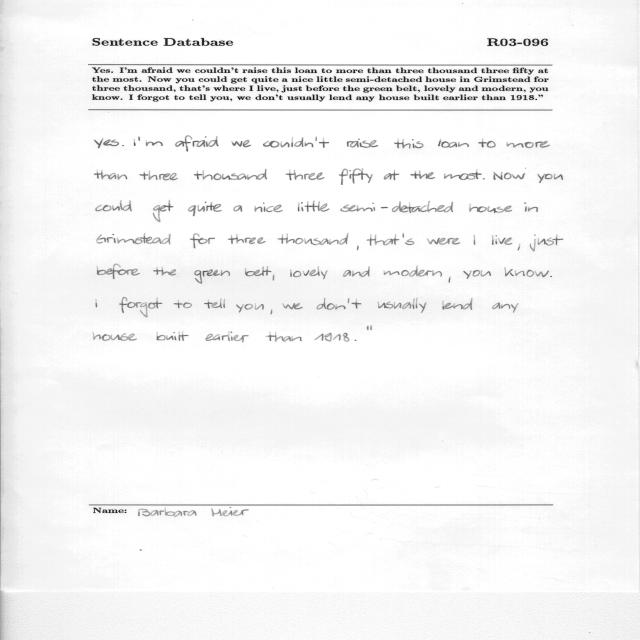word: (340, 201, 453, 213), (119, 298, 162, 318), (97, 234, 171, 245), (194, 169, 267, 180), (277, 234, 349, 245), (377, 298, 427, 313), (263, 137, 329, 148), (175, 136, 219, 152), (97, 264, 140, 279), (384, 266, 442, 277), (339, 168, 373, 185), (530, 235, 563, 252), (194, 269, 230, 284), (317, 298, 362, 310), (290, 266, 328, 279), (206, 331, 249, 342), (188, 202, 221, 216), (505, 267, 549, 277), (153, 201, 173, 222), (366, 234, 399, 246), (286, 170, 325, 180), (228, 234, 266, 244), (315, 333, 357, 342), (190, 234, 215, 249), (265, 332, 302, 342), (96, 202, 132, 212), (443, 298, 473, 310), (298, 201, 330, 212), (469, 205, 512, 213), (94, 333, 137, 341), (140, 171, 178, 180), (95, 170, 128, 180), (157, 331, 189, 341), (506, 141, 550, 148), (444, 172, 482, 180), (394, 139, 424, 149), (343, 267, 370, 278), (492, 302, 518, 313), (255, 203, 283, 213), (347, 139, 378, 148), (438, 139, 469, 148), (245, 266, 272, 276), (494, 172, 526, 180), (463, 270, 491, 279), (236, 304, 264, 313), (95, 139, 120, 149), (537, 174, 563, 183), (427, 238, 460, 245), (138, 137, 163, 146), (410, 170, 435, 179), (204, 299, 225, 309), (492, 235, 512, 245), (153, 268, 176, 276), (384, 170, 399, 180), (478, 140, 496, 148), (524, 202, 538, 212), (232, 140, 251, 147), (403, 234, 415, 245), (282, 303, 303, 309), (174, 302, 192, 308), (234, 206, 243, 212), (474, 235, 476, 245), (518, 244, 521, 250), (449, 276, 451, 283), (273, 275, 275, 281), (134, 141, 136, 146), (271, 310, 273, 315), (357, 246, 359, 250), (367, 327, 369, 330), (370, 327, 372, 330), (96, 303, 97, 308), (483, 178, 485, 180), (122, 145, 124, 146), (550, 276, 552, 277)
